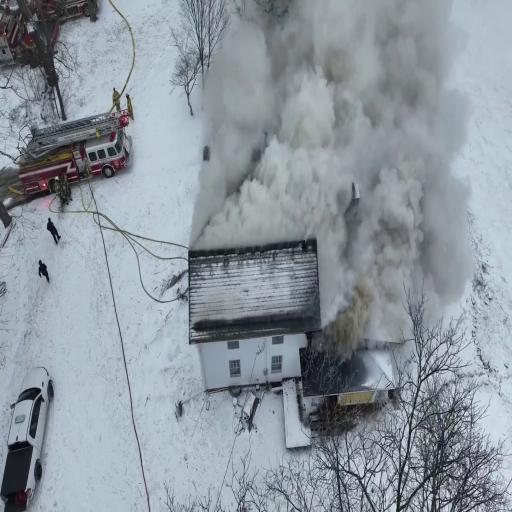smoke: (306, 104, 407, 322)
